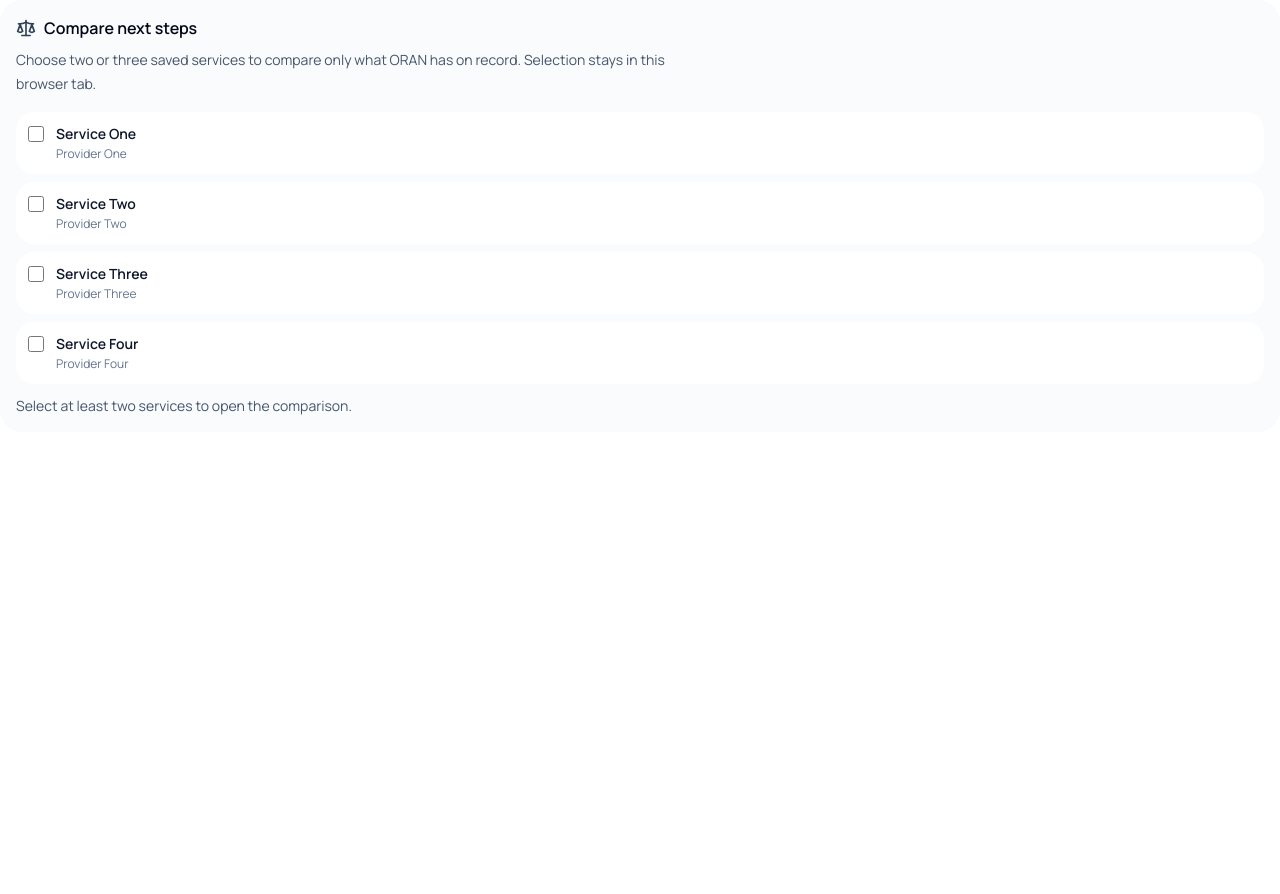
SavedServiceComparison › limits a comparison to three services and recovers after clearing the selection
Click the checkbox named "Add Service One to comparison" at (36, 134), box [28,126,44,142]
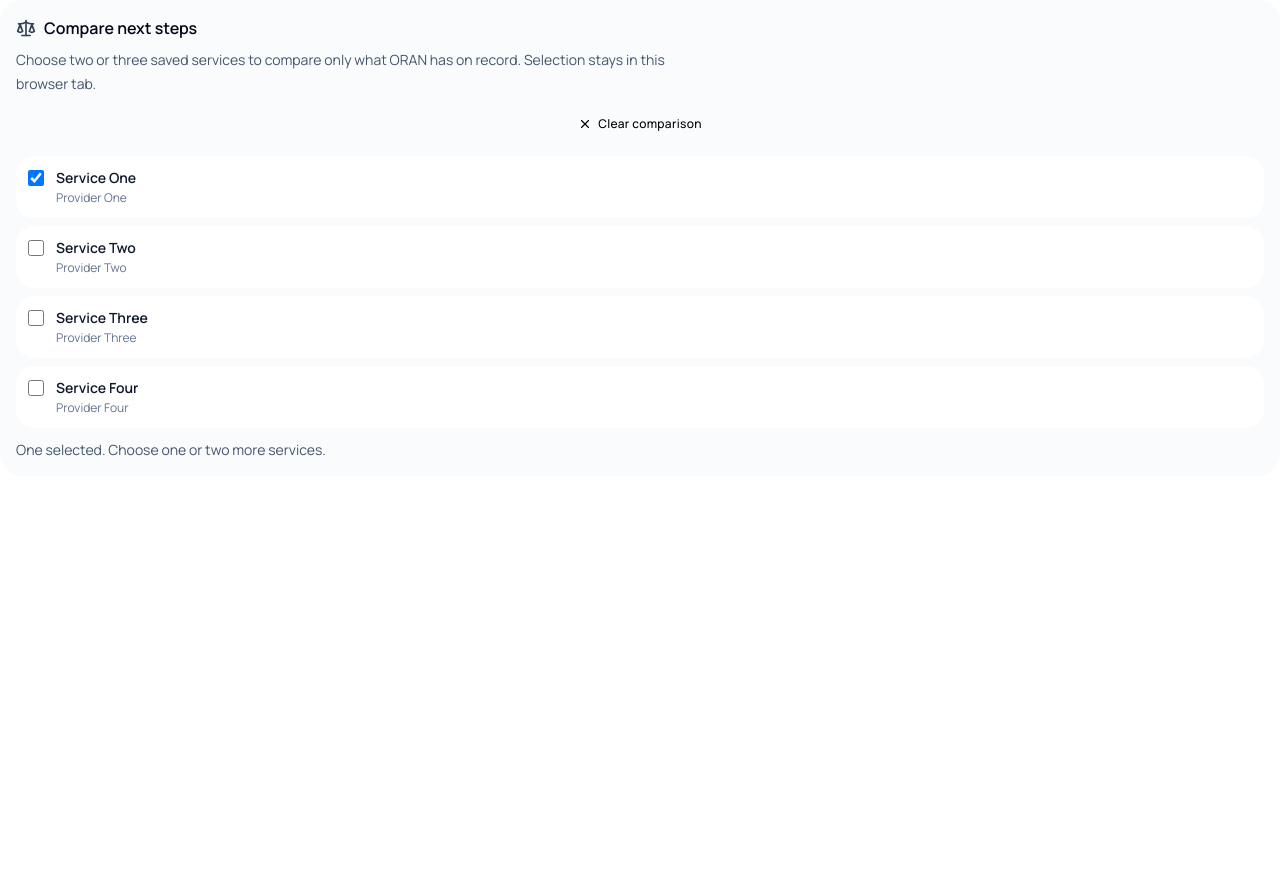
Click the checkbox named "Add Service Two to comparison" at (36, 248), box [28,240,44,256]
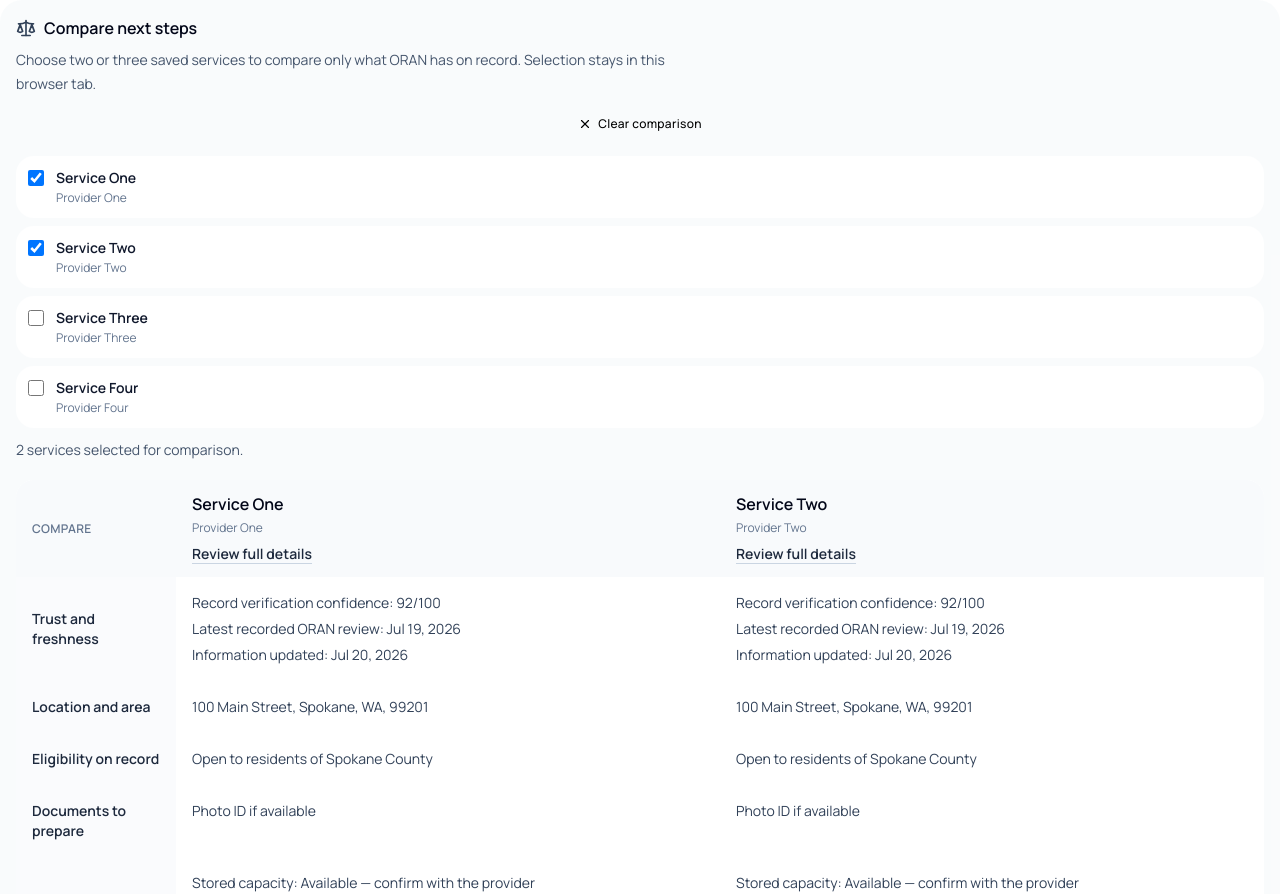
Click the checkbox named "Add Service Three to comparison" at (36, 318), box [28,310,44,326]
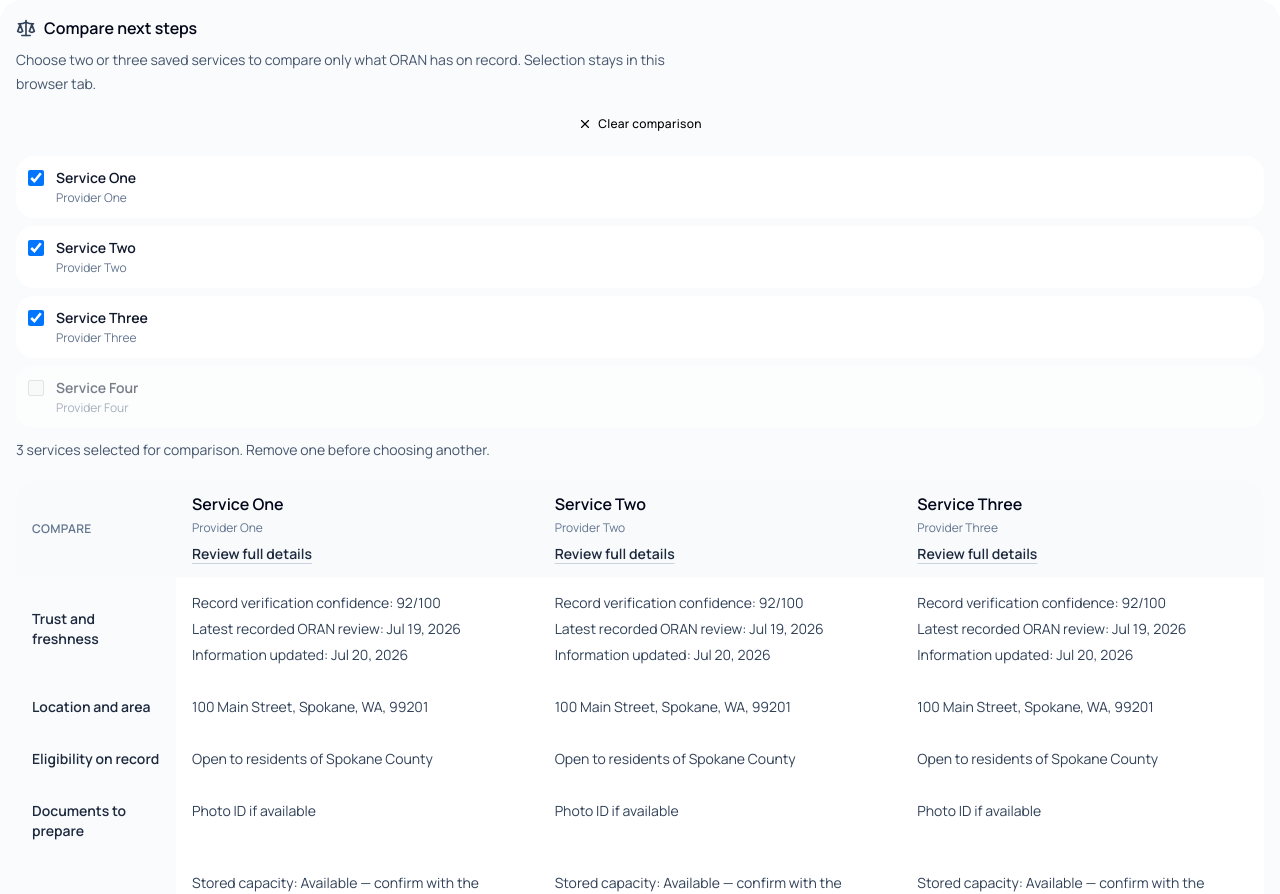
Expected: the checkbox named "Add Service Four to comparison" is disabled, [28,380,44,396]
Expected: the message shows "Remove one before choosing another", [243,440,490,459]
Click the button "Clear comparison" at (640, 124), box [16,108,1264,140]
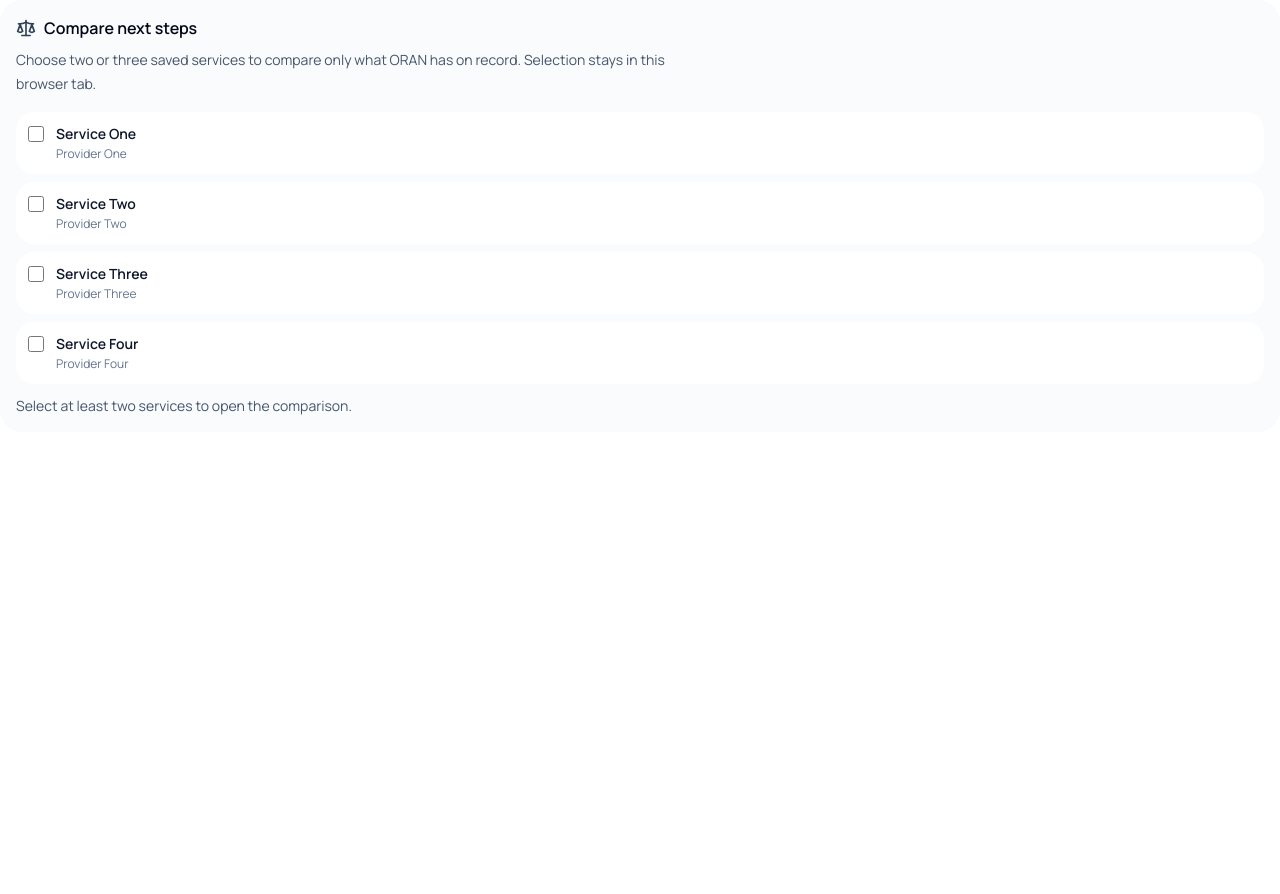
Expected: the checkbox named "Add Service Four to comparison" is enabled, [28,336,44,352]
